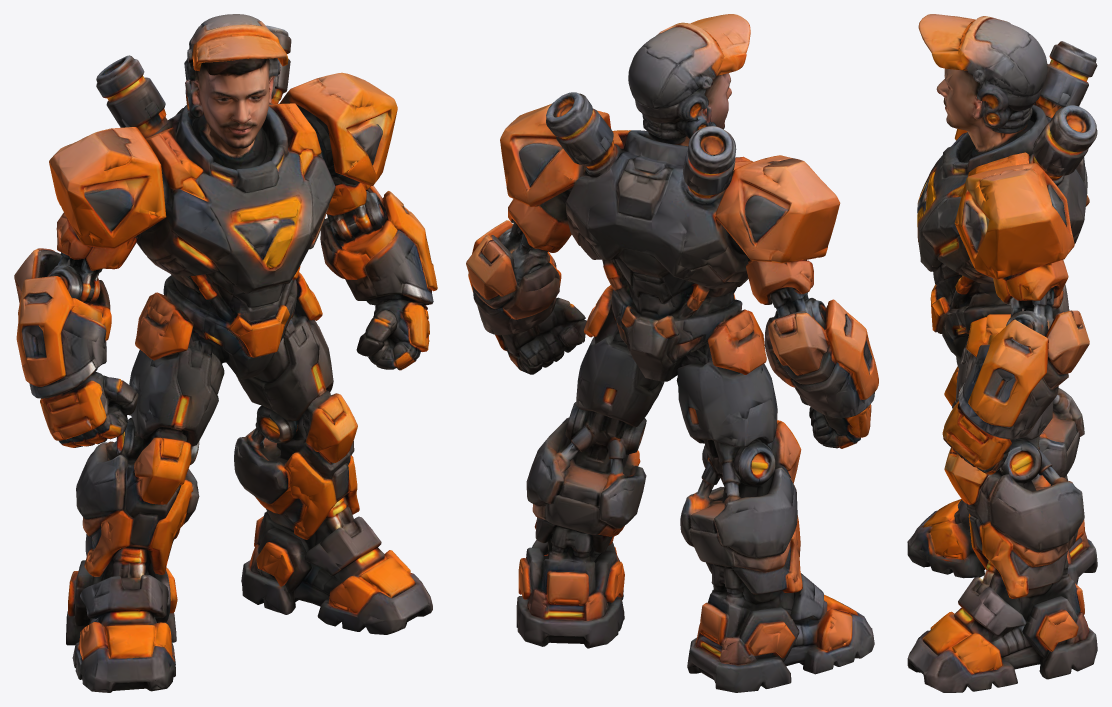
The model's file is gustavo-de-ferro.glb.
The picture shows the model from 3 angles, left to right: view 1: azimuth 30°, elevation 25°; view 2: azimuth 150°, elevation 25°; view 3: azimuth 270°, elevation 25°; orthographic projection. The views are drawn at different scales.
Parts seen in each view (by area): view 1: tripo_node_b9d4b020-9988-4c8c-875e-d9b212f6ef29; view 2: tripo_node_b9d4b020-9988-4c8c-875e-d9b212f6ef29; view 3: tripo_node_b9d4b020-9988-4c8c-875e-d9b212f6ef29.
Part boxes in pixels (x1,y1,x2,y2): tripo_node_b9d4b020-9988-4c8c-875e-d9b212f6ef29: [14, 14, 437, 692]; tripo_node_b9d4b020-9988-4c8c-875e-d9b212f6ef29: [466, 14, 878, 692]; tripo_node_b9d4b020-9988-4c8c-875e-d9b212f6ef29: [907, 14, 1097, 692].
Bounding box in the file's own units: 0.6715 × 0.9796 × 0.2871.
Materials: 1 (1 with a texture image).
